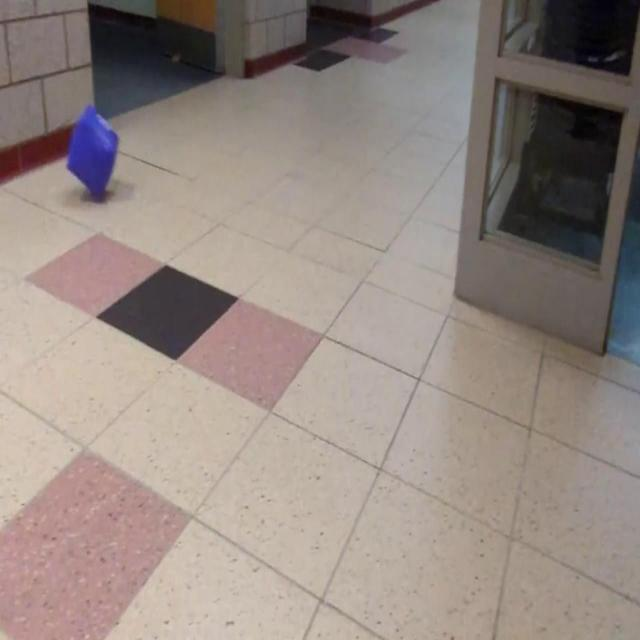frc_cube: (66, 107, 119, 198)
